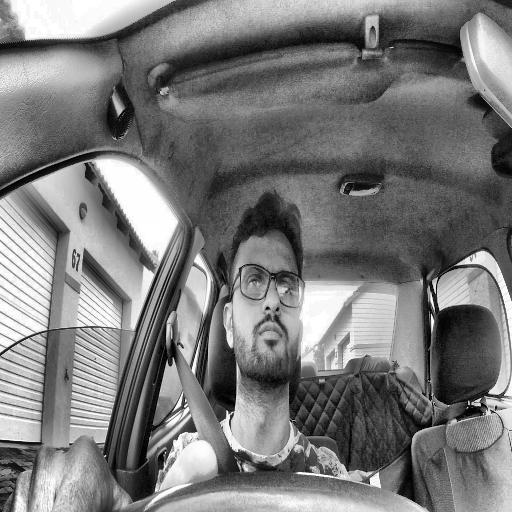awake: (223, 191, 306, 386)
